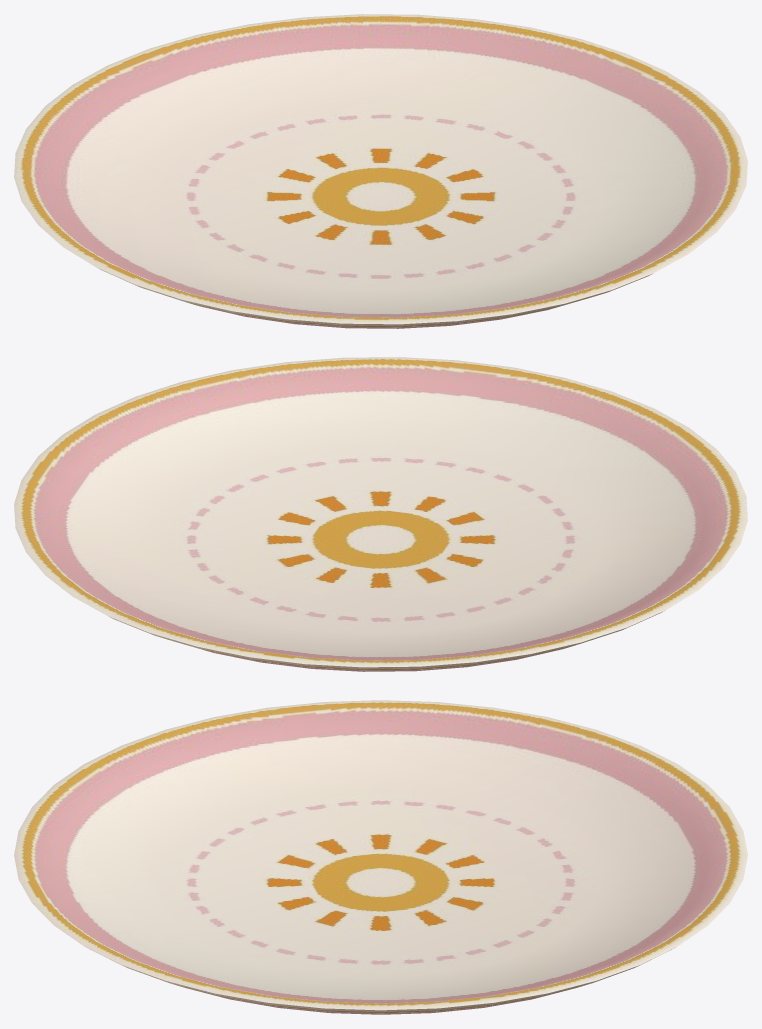
The model's file is prop_neutral_plate.glb.
3 views of the same model, one above another, from view 1: azimuth 30°, elevation 25°; view 2: azimuth 150°, elevation 25°; view 3: azimuth 270°, elevation 25° (orthographic).
Parts seen in each view (by area): view 1: Plate; view 2: Plate; view 3: Plate.
Boxes of the visible parts, x1=… form: Plate: x1=14, y1=14, x2=747, y2=328; Plate: x1=14, y1=357, x2=747, y2=671; Plate: x1=14, y1=700, x2=747, y2=1014.
Bounding box in the file's own units: 0.194 × 0.019 × 0.194.
Materials: 1 (1 with a texture image).
